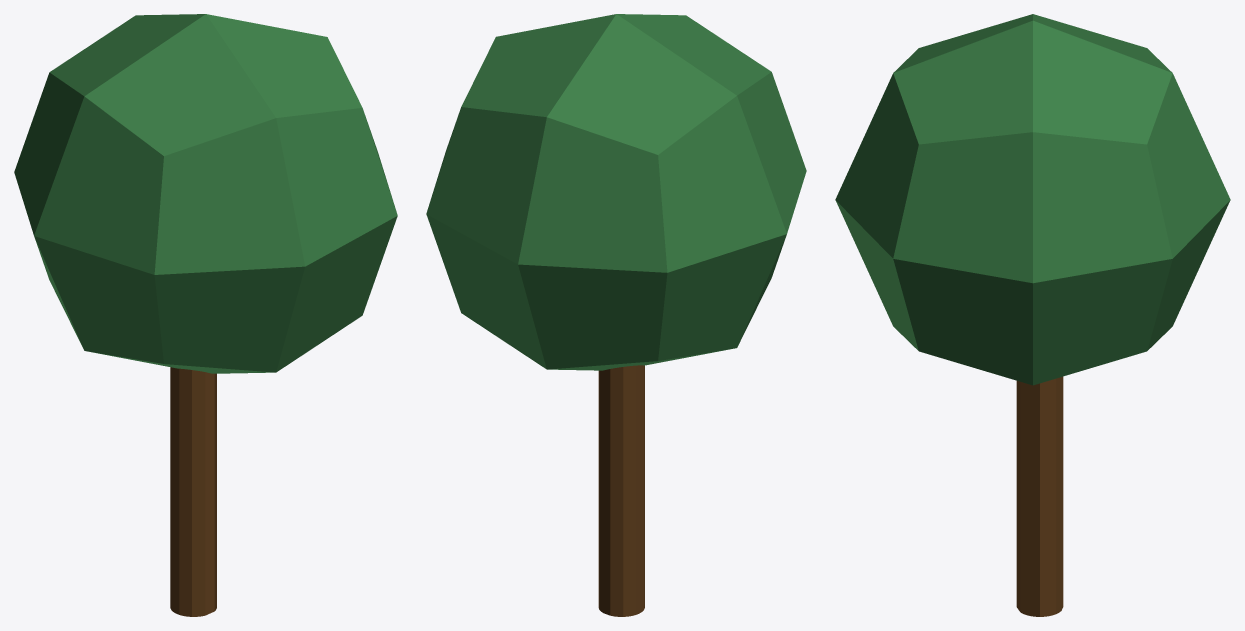
Rendered from tree.glb.
3 views of the same model, side by side, from view 1: azimuth 30°, elevation 25°; view 2: azimuth 150°, elevation 25°; view 3: azimuth 270°, elevation 25° (orthographic).
Visible parts, largest first — view 1: Quad Sphere.001, Cylinder; view 2: Quad Sphere.001, Cylinder; view 3: Quad Sphere.001, Cylinder.
Boxes of the visible parts, bbox=[...] form: Quad Sphere.001: bbox=[14, 14, 397, 373]; Cylinder: bbox=[170, 367, 216, 616]; Quad Sphere.001: bbox=[426, 14, 806, 370]; Cylinder: bbox=[598, 365, 644, 616]; Quad Sphere.001: bbox=[835, 14, 1230, 385]; Cylinder: bbox=[1016, 376, 1063, 616].
Size of the model in its own units: 3.62 by 5.96 by 3.62.
